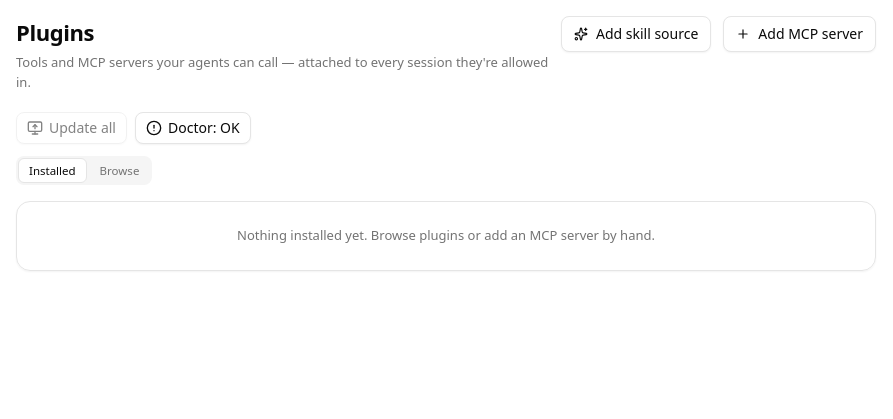
Test: a blocked catalog entry renders the Blocked badge and hides the Install button
The width and height of the screenshot is (893, 419).
Click the button "Browse": (120, 170) top-left (89, 158), bottom-right (150, 183)
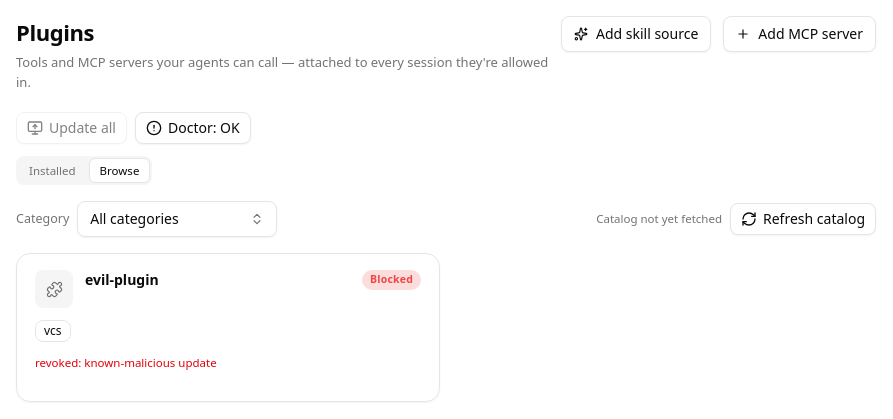
Check: the text "Blocked" is shown, box top-left (362, 270), bottom-right (421, 290)
